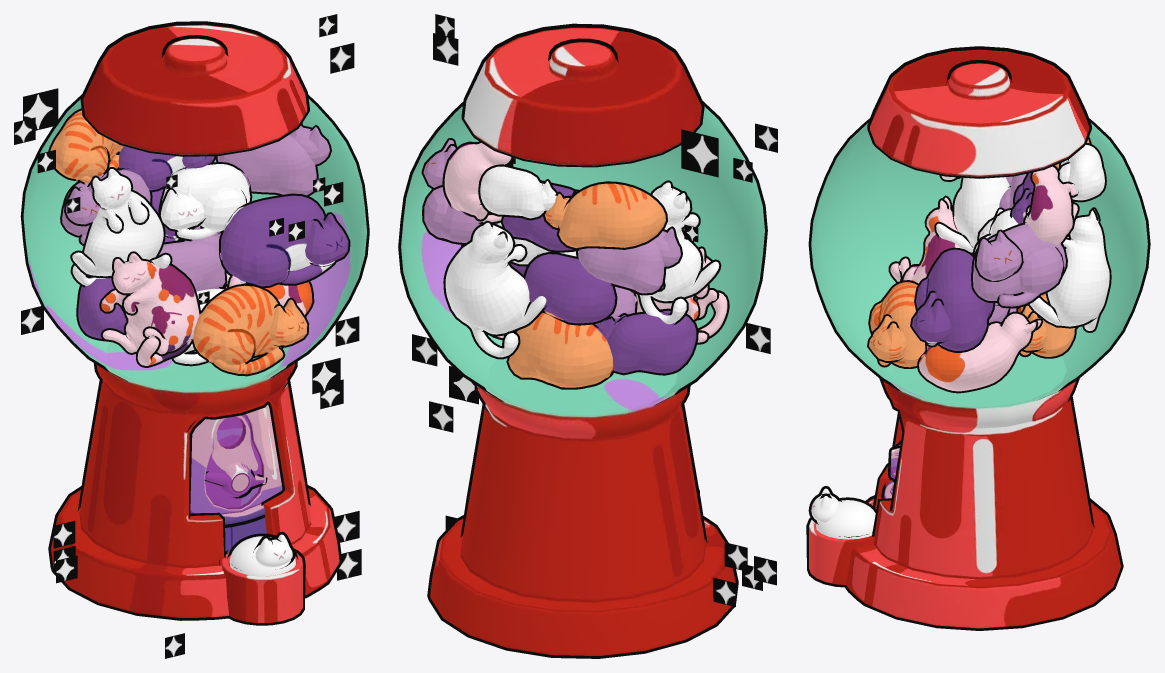
The model's file is cat_dispenser-transformed.glb.
The picture shows the model from 3 angles, left to right: view 1: azimuth 30°, elevation 25°; view 2: azimuth 150°, elevation 25°; view 3: azimuth 270°, elevation 25°; orthographic projection. The views are drawn at different scales.
Visible parts, largest first — view 1: Object_17, Object_14, Object_2, Object_3, Object_15, Object_13, Object_4, Object_8, Object_7, Object_12, Object_5; view 2: Object_17, Object_14, Object_2, Object_3, Object_11, Object_12, Object_4, Object_8, Object_10, Object_7, Object_15; view 3: Object_17, Object_14, Object_3, Object_15, Object_13, Object_4, Object_12, Object_11, Object_6, Object_7.
Boxes of the visible parts, x1,y1,x2,y2 form: Object_17: (23,24,366,623); Object_14: (50,110,348,365); Object_2: (14,14,361,658); Object_3: (20,21,369,625); Object_15: (159,195,319,314); Object_13: (75,155,334,576); Object_4: (48,123,350,570); Object_8: (64,167,256,365); Object_7: (99,251,200,367); Object_12: (76,285,310,511); Object_5: (158,162,325,287); Object_17: (401,27,764,655); Object_14: (423,140,727,387); Object_2: (412,14,777,606); Object_3: (398,23,767,658); Object_11: (443,181,667,359); Object_12: (460,164,707,542); Object_4: (421,138,738,602); Object_8: (630,180,721,325); Object_10: (500,180,617,325); Object_7: (693,241,729,344); Object_15: (511,263,635,324); Object_17: (809,49,1147,628); Object_14: (869,139,1109,391); Object_3: (806,46,1150,630); Object_15: (919,249,1040,382); Object_13: (811,292,1039,539); Object_4: (865,163,1123,569); Object_12: (873,143,1106,528); Object_11: (1028,137,1111,332); Object_6: (917,311,1043,393); Object_7: (888,195,952,282).
Size of the model in its own units: 3.19 by 4.75 by 2.83.
4 materials, 3 textured.
